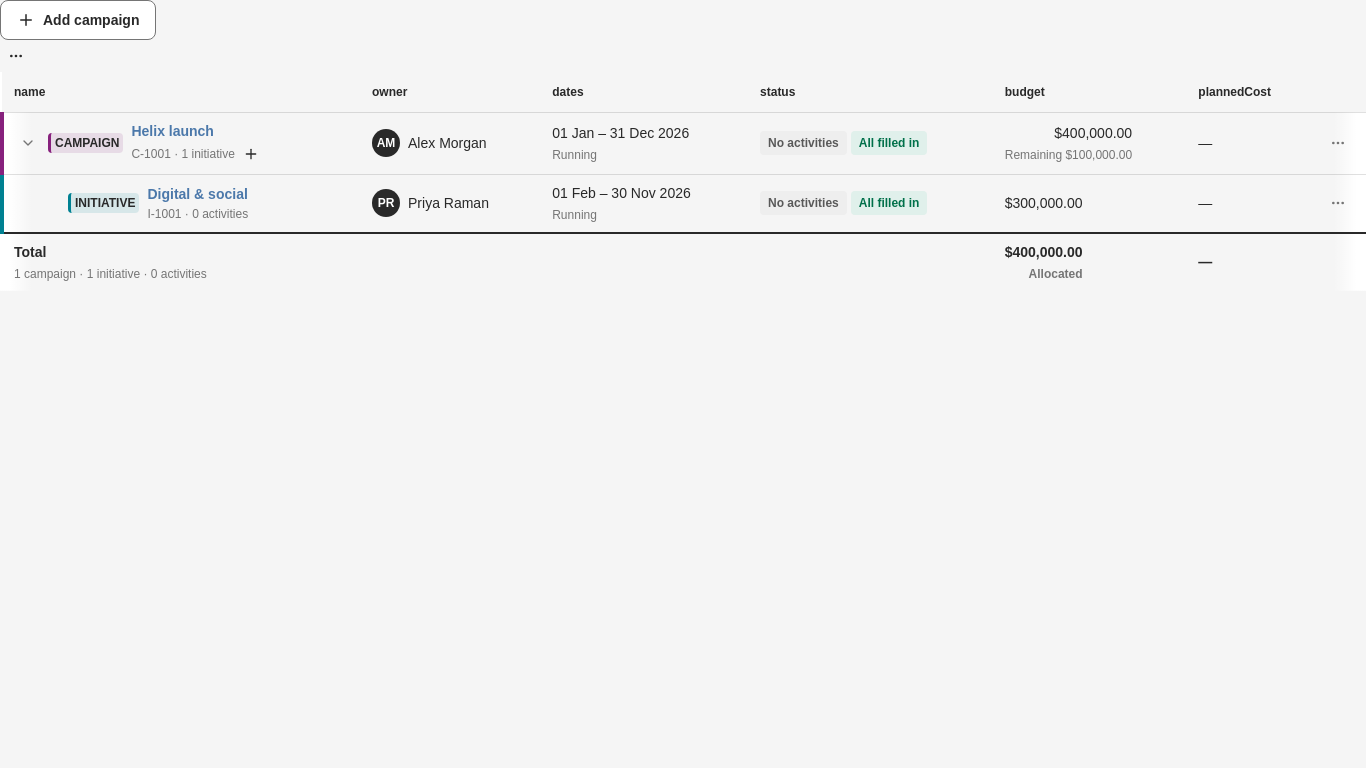
Test: useCampaignTreeContent: row actions (feature 005, US5, US6) › deletes from a row’s ⋯ menu and the row leaves the tree at once (FR-021, FR-028, FR-012)
What coordinates should you click on to do the following:
click the button named "Actions for Digital & social"
I would click on:
 (1338, 203)
Its box is x1=1322 y1=187 x2=1354 y2=219.
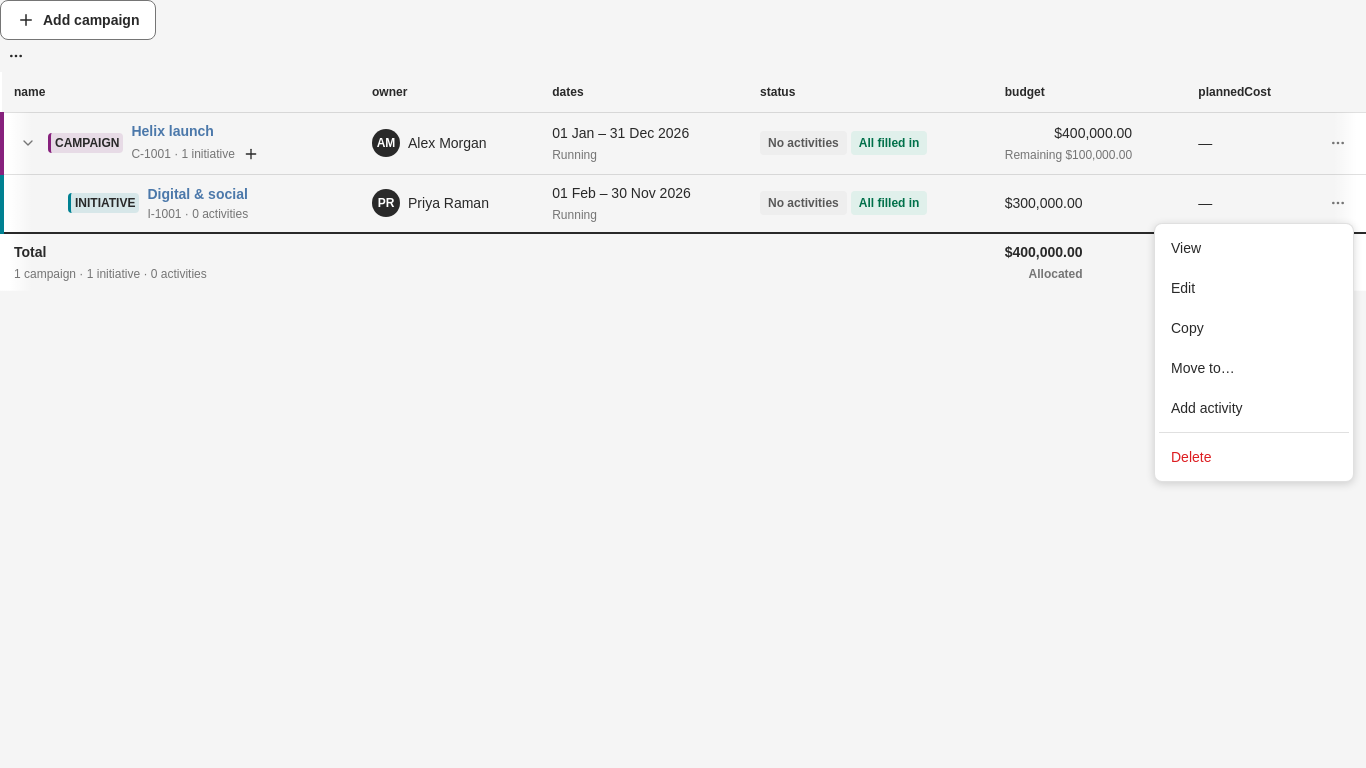
What coordinates should you click on to do the following:
click the menu item "Delete"
I would click on:
 (1191, 457)
Its box is x1=1171 y1=449 x2=1212 y2=465.
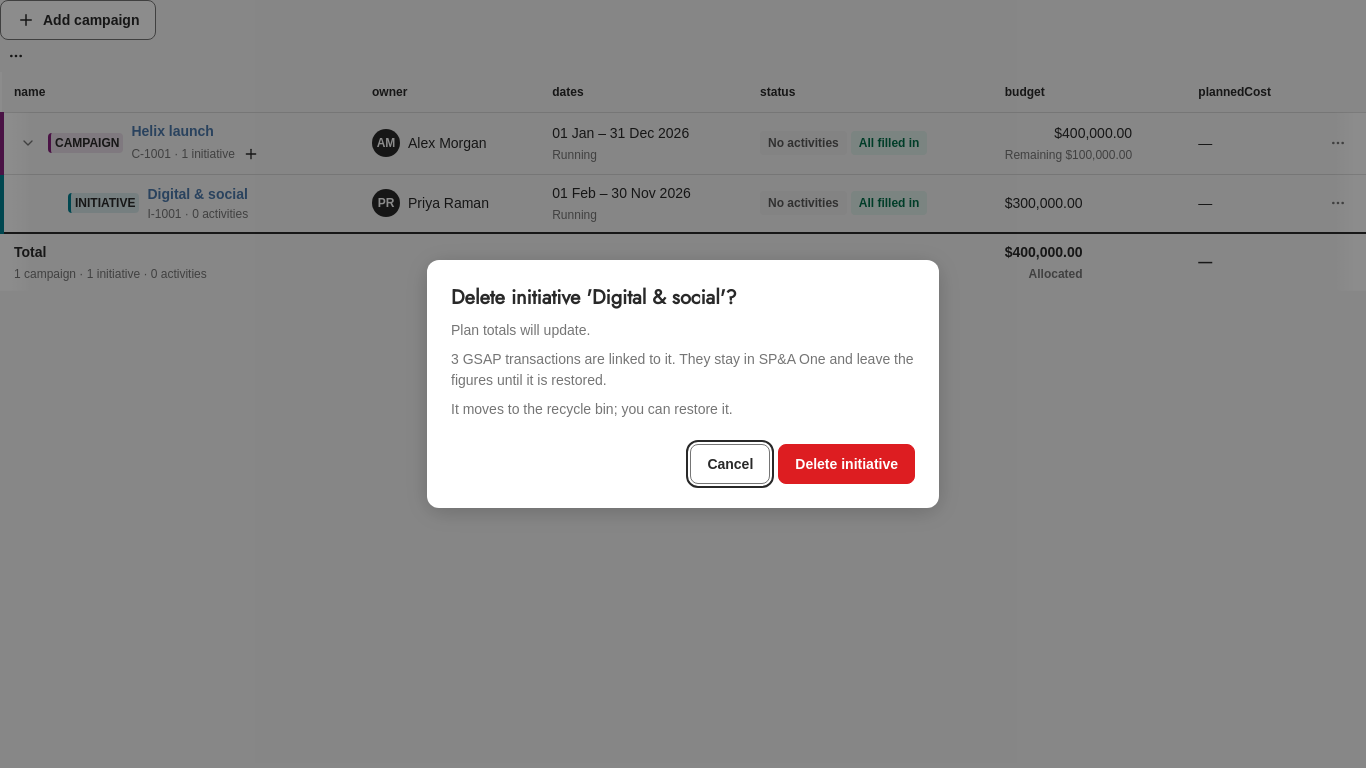
What coordinates should you click on to do the following:
click the button "Delete initiative"
I would click on:
 (847, 464)
Its box is x1=778 y1=444 x2=915 y2=484.
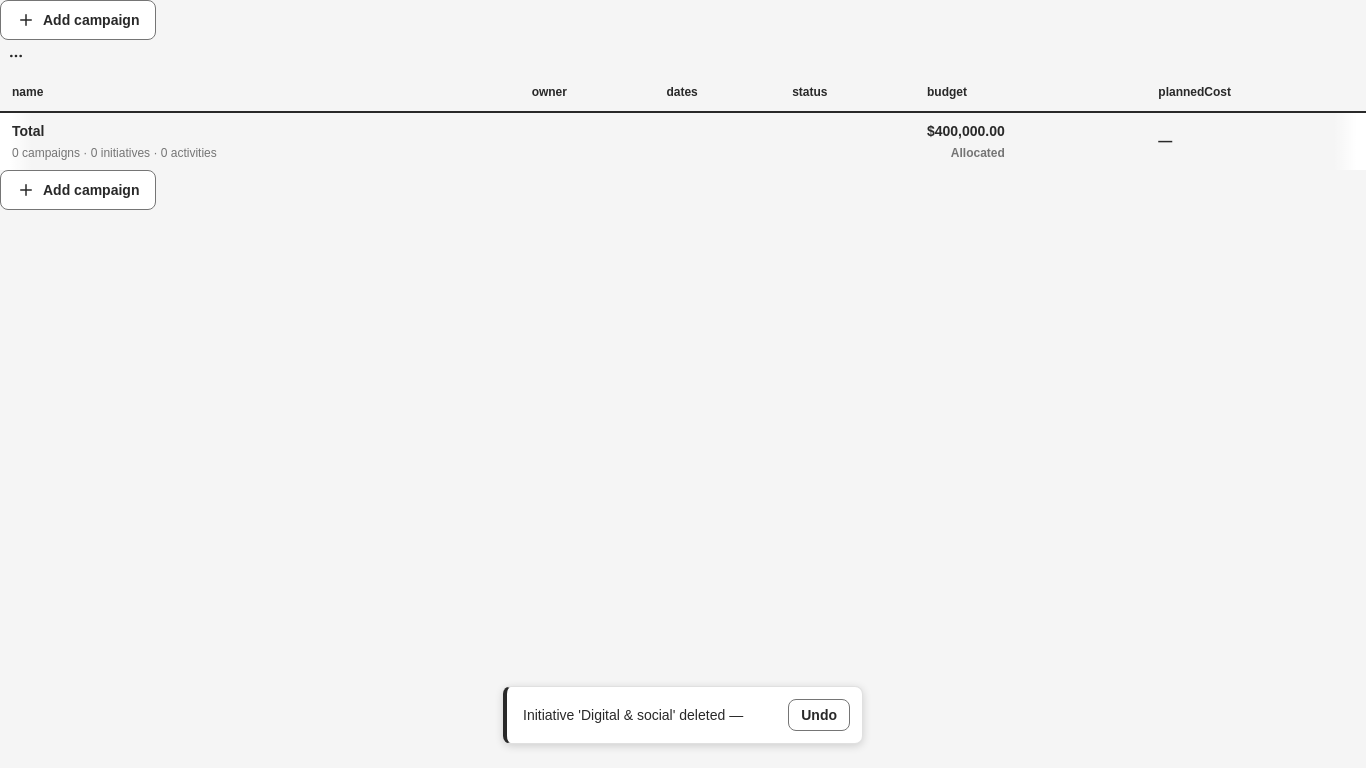
Now the element with test id "empty" is shown, box x1=0 y1=170 x2=156 y2=210
